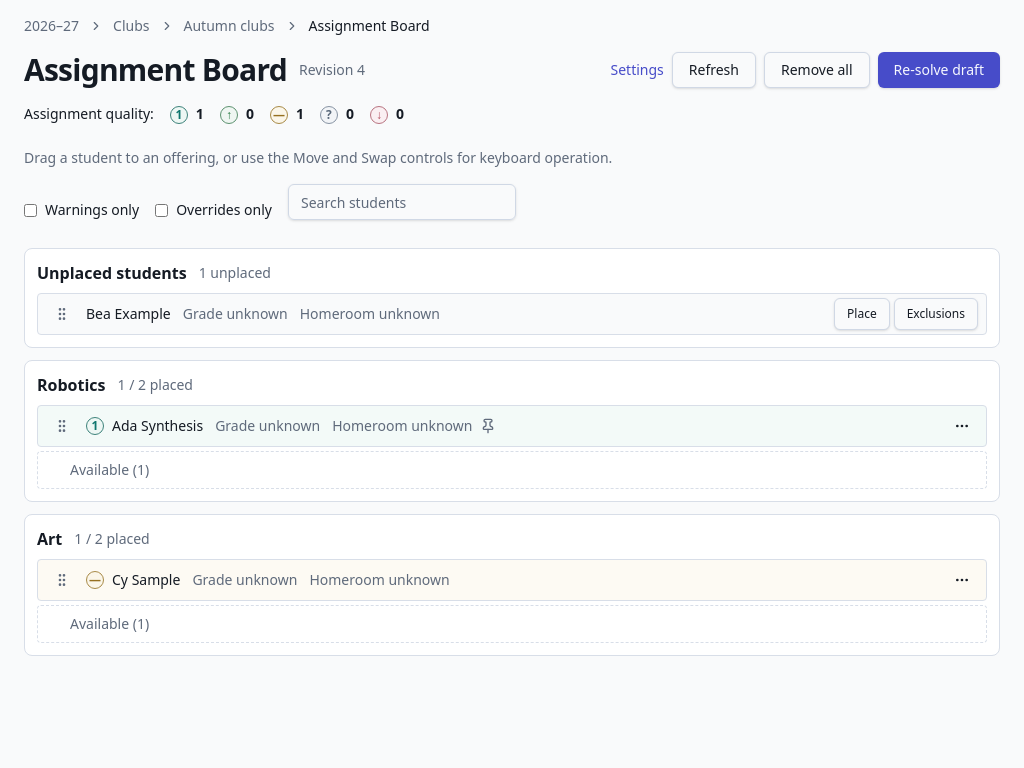
AssignmentBoardPage › removes Ada Synthesis to unplaced, even if pinned
The width and height of the screenshot is (1024, 768).
Click the button named "Actions for Ada Synthesis".
click(962, 426)  # box [946, 410, 978, 442]
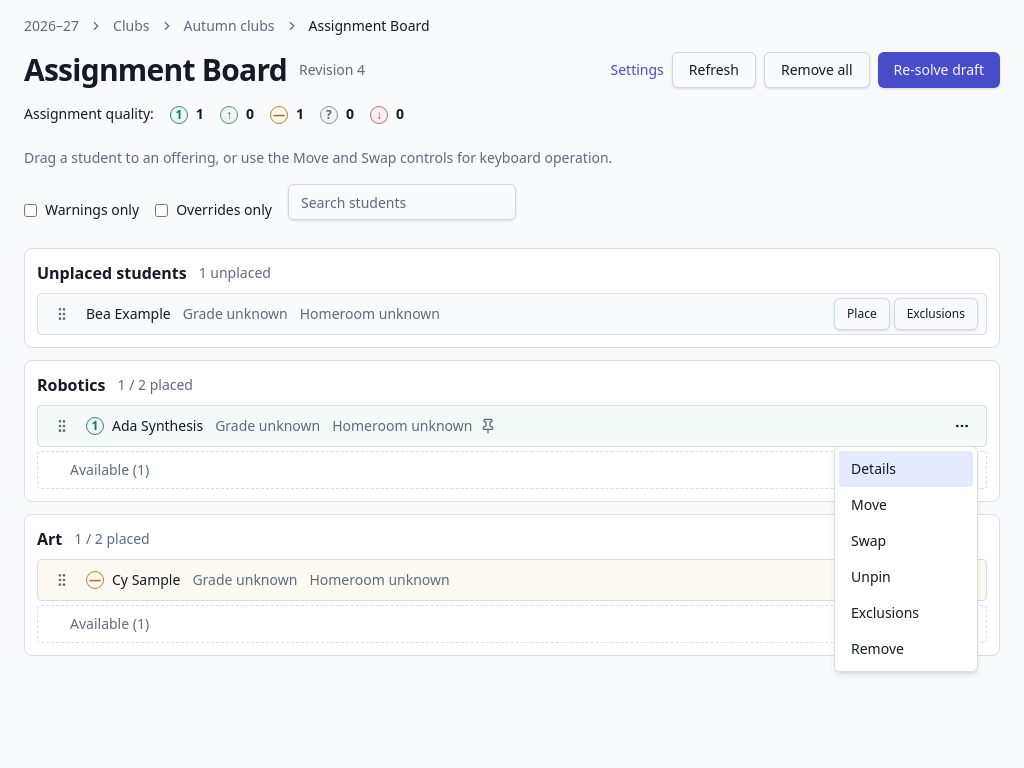
Click the menu item "Remove".
click(877, 648)  # box [851, 639, 904, 658]
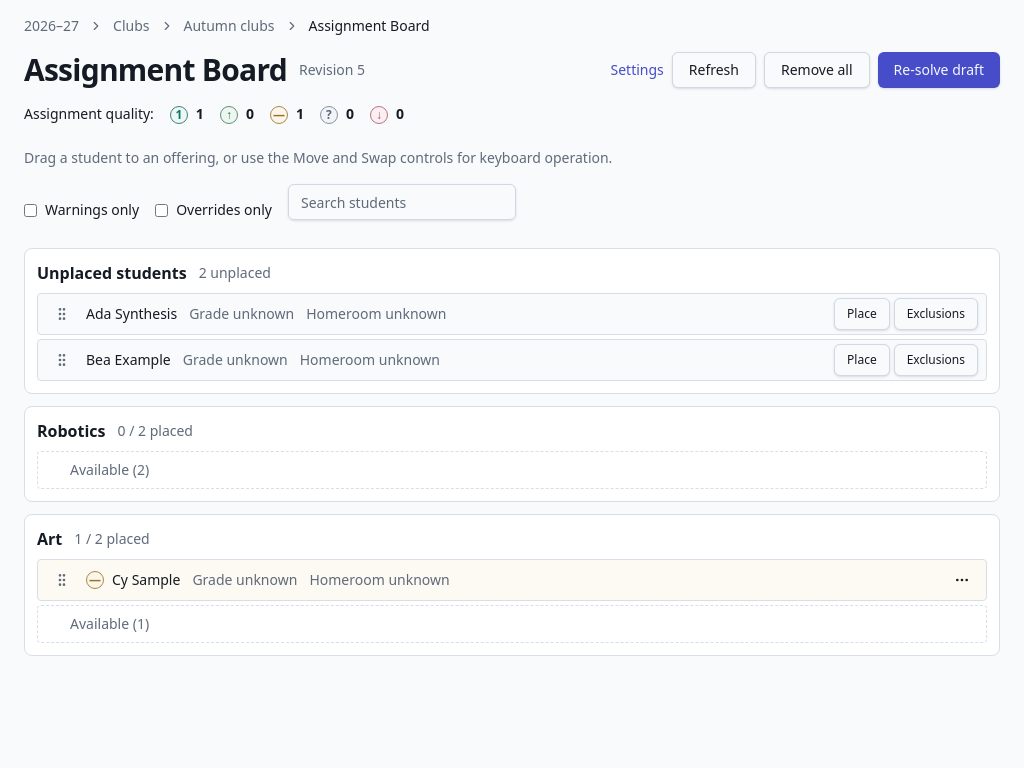
Expected: the text "Ada Synthesis" is shown, [86, 304, 177, 324]
Expected: the text "Revision 5" is shown, [299, 60, 365, 80]
